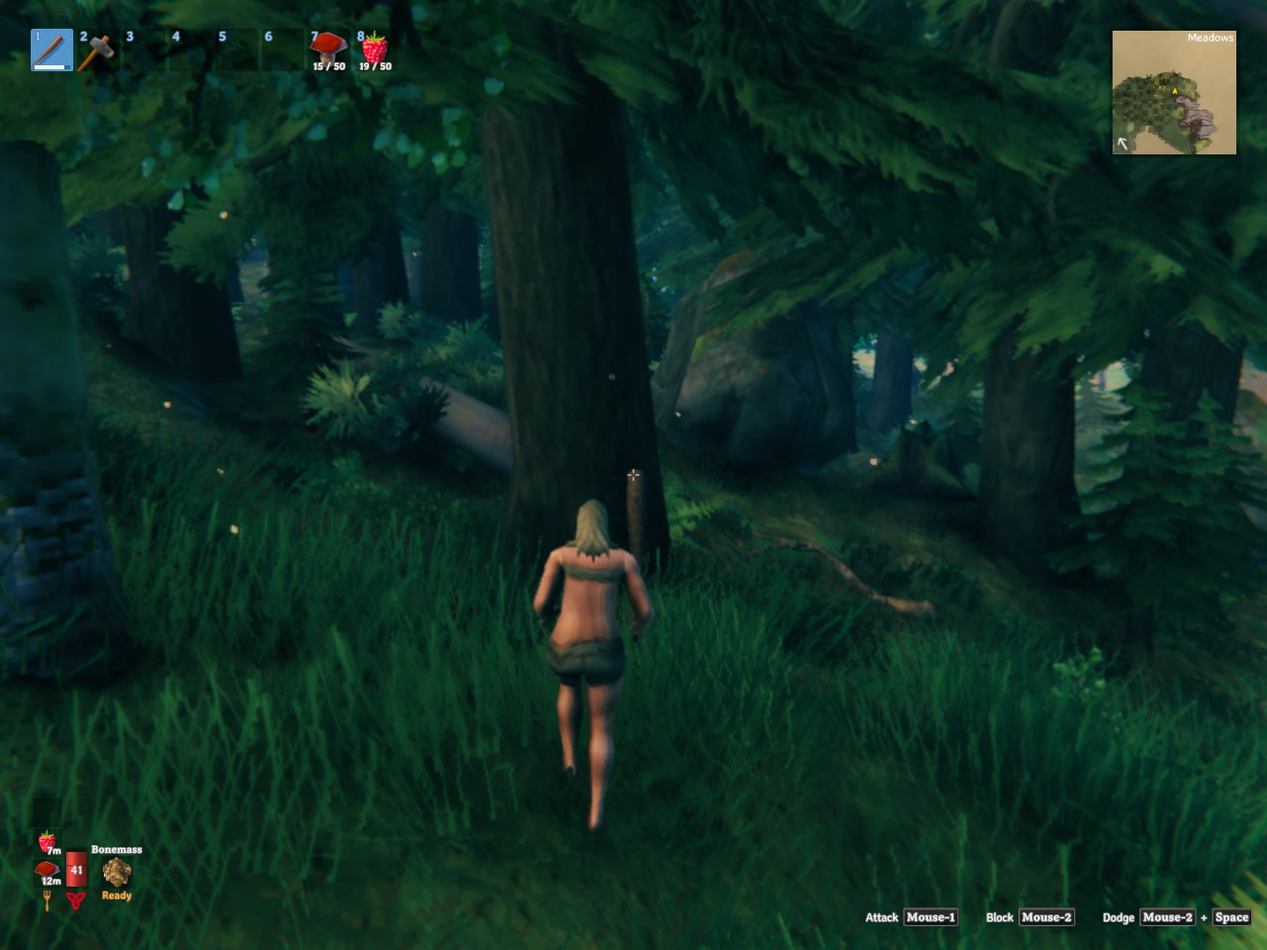Branch: (766, 538, 934, 617)
